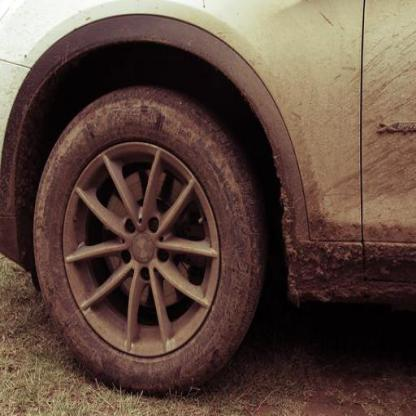Tire: (33, 85, 268, 395)
